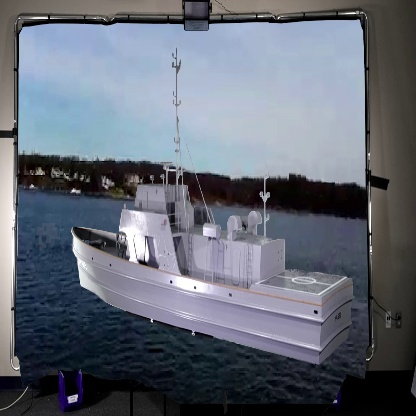YP689: (72, 48, 355, 368)
